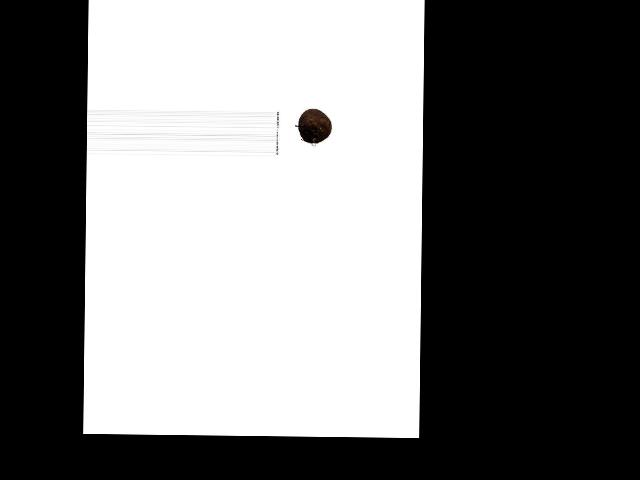beet: (298, 108, 331, 142)
